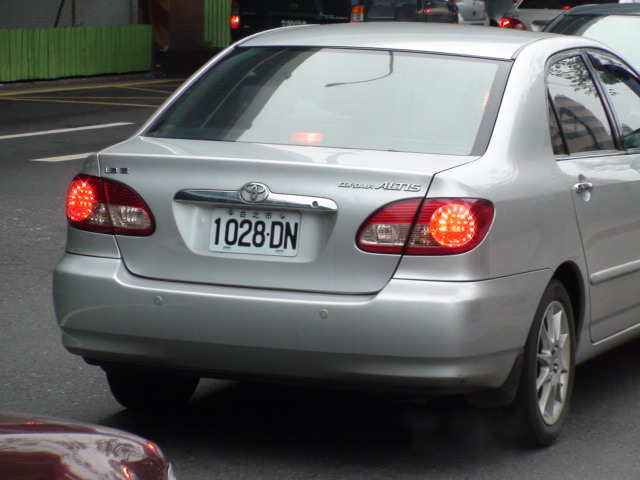plate: (208, 206, 304, 258)
